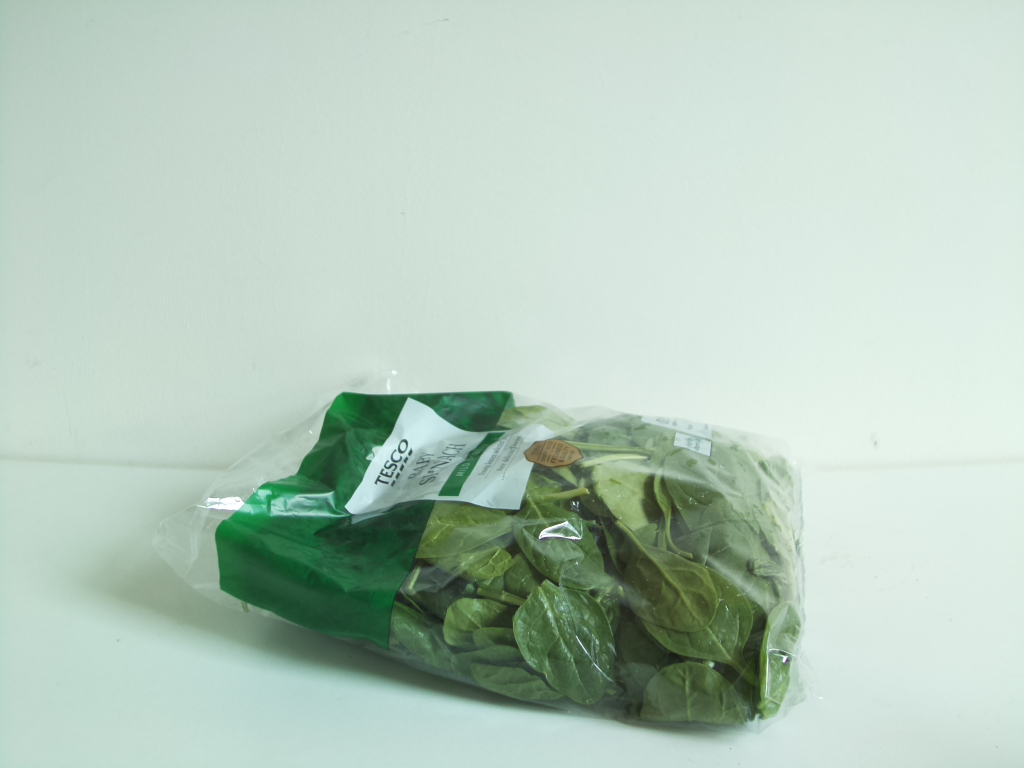salad: (168, 373, 815, 733)
